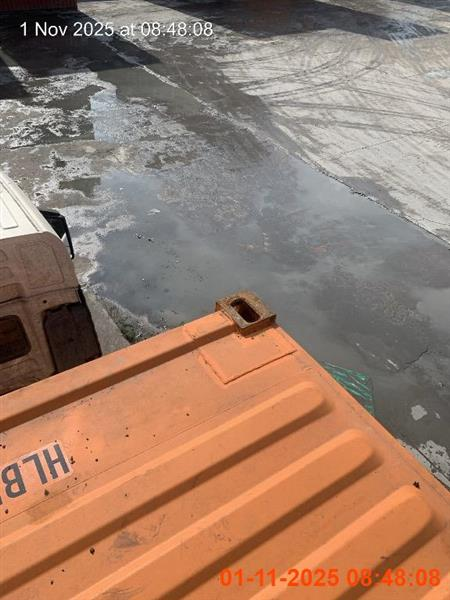broken: (0, 168, 449, 597), (0, 169, 104, 396)
